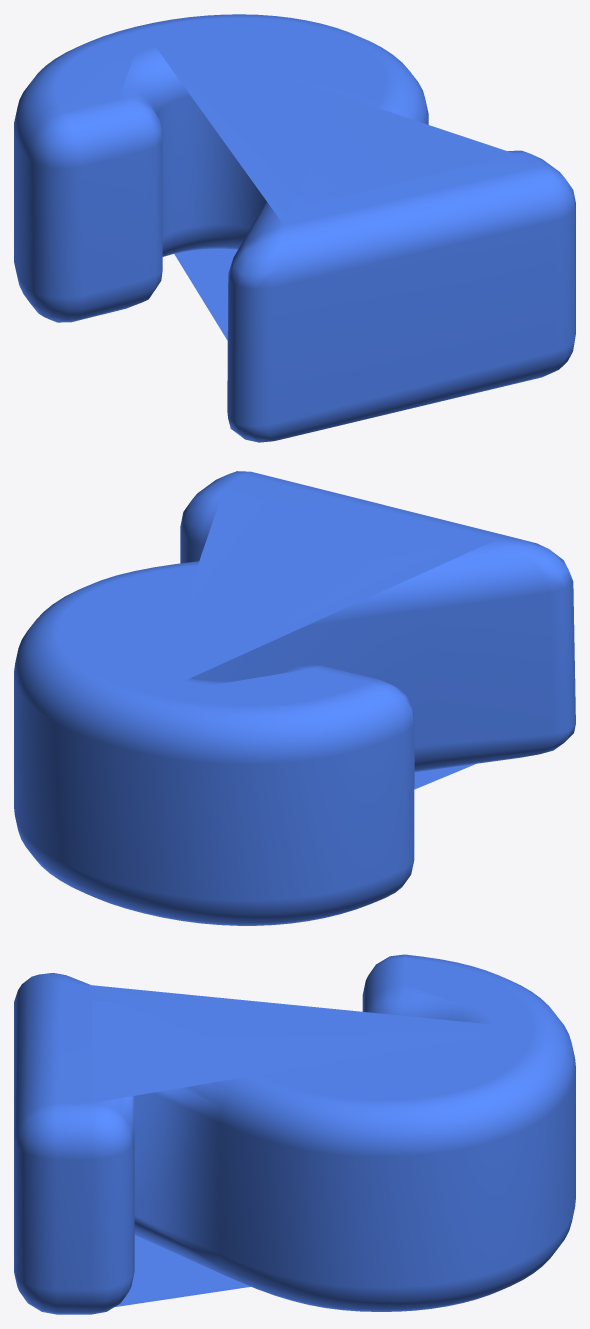
File: Two.fbx
3 views of the same model, one above another, from view 1: azimuth 30°, elevation 25°; view 2: azimuth 150°, elevation 25°; view 3: azimuth 270°, elevation 25° (orthographic). The views are drawn at different scales.
Parts seen in each view (by area): view 1: polySurface2; view 2: polySurface2; view 3: polySurface2.
Part boxes in pixels (<box>): polySurface2: <box>14,14,575,442</box>; polySurface2: <box>14,471,575,925</box>; polySurface2: <box>14,954,575,1314</box>.
Size of the model in its own units: 0.4517 by 0.2429 by 0.596.
1 material, 1 textured.
